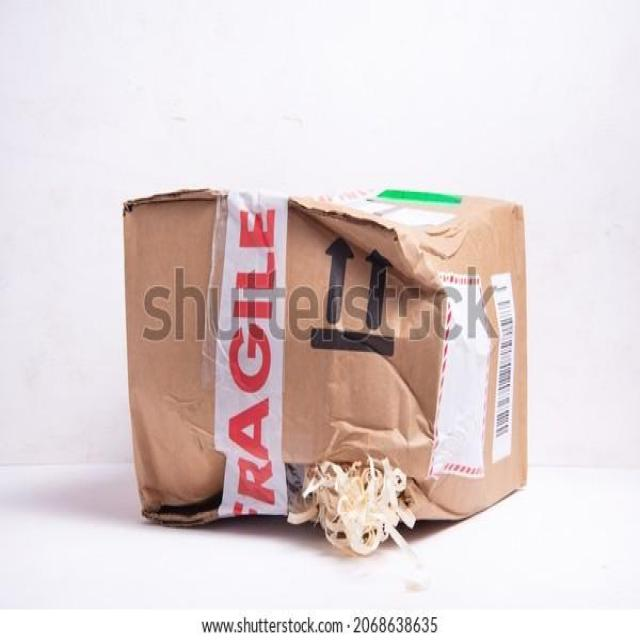Garbage: (116, 172, 541, 568)
